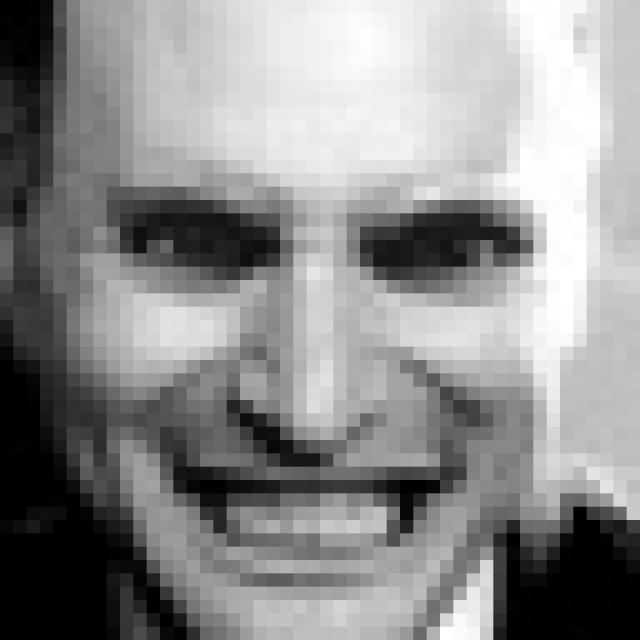angry: (106, 154, 551, 591)
